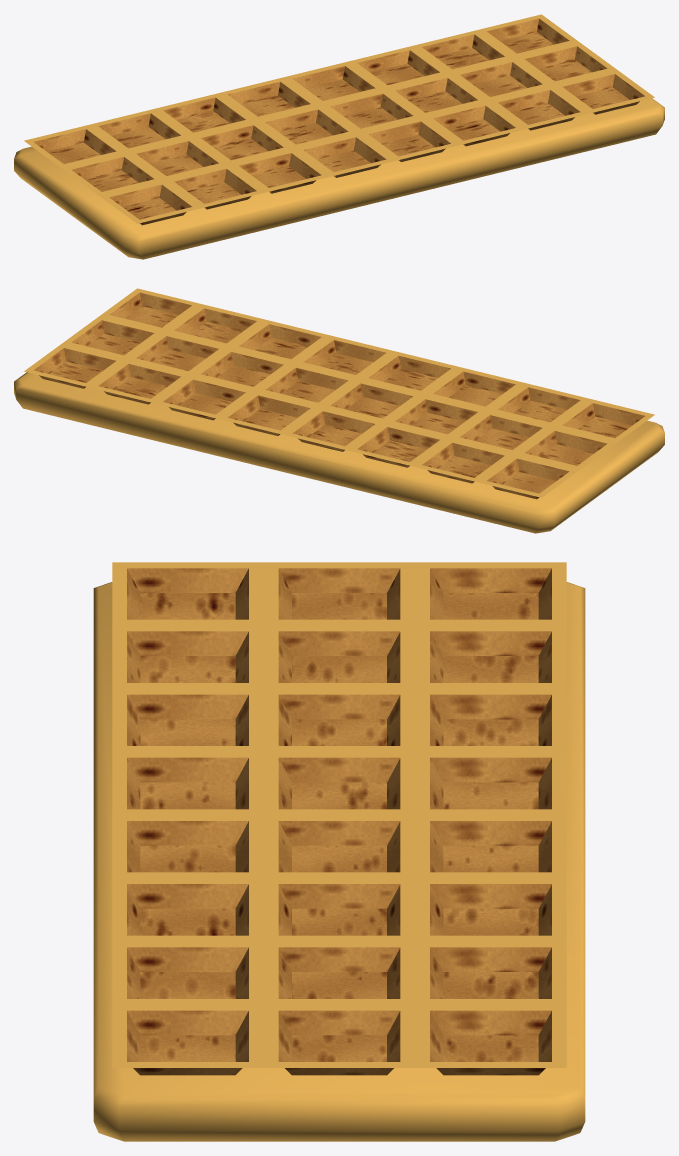
The model's file is waffle.glb.
3 views of the same model, one above another, from view 1: azimuth 30°, elevation 25°; view 2: azimuth 150°, elevation 25°; view 3: azimuth 270°, elevation 25° (orthographic). The views are drawn at different scales.
Visible parts, largest first — view 1: waffle; view 2: waffle; view 3: waffle.
Part boxes in pixels (x1,y1,x2,y2): waffle: (14,14,664,259); waffle: (14,288,664,533); waffle: (93,562,585,1141).
Size of the model in its own units: 1.89 by 0.1129 by 0.7421.
2 materials, 1 textured.
